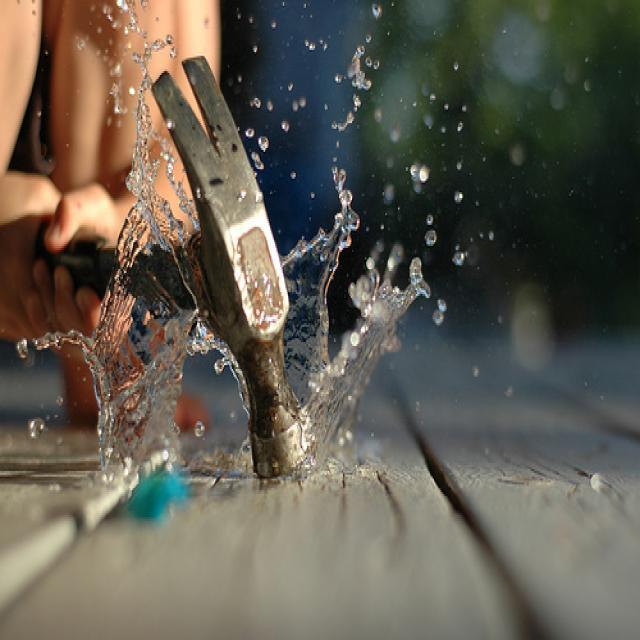hammer: (143, 49, 334, 512)
